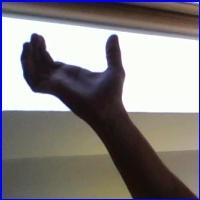space: (19, 30, 142, 117)
